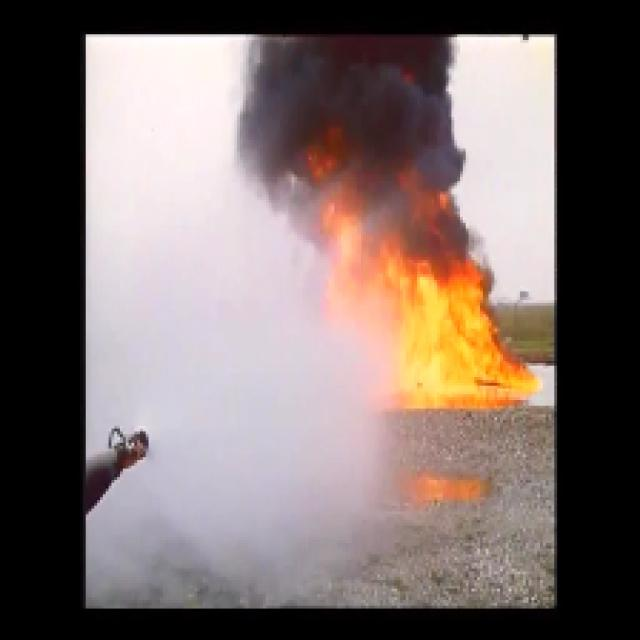fire: (404, 275, 508, 402)
smoke: (270, 35, 441, 175)
